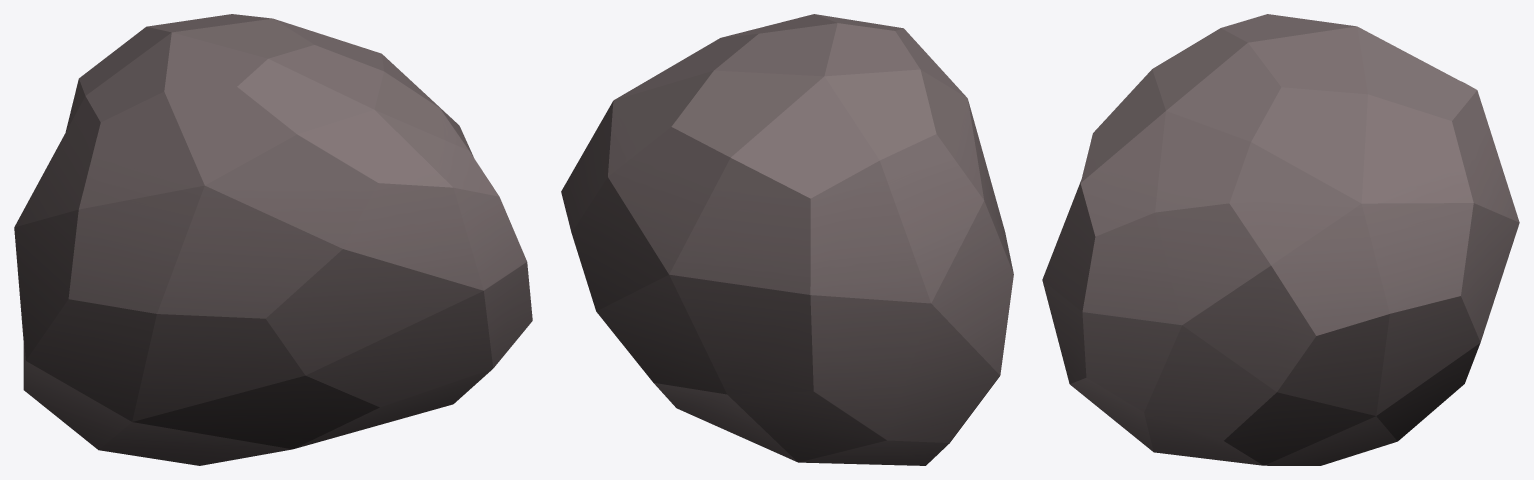
File: Asteroid_2.fbx
3 renders of one model, left to right at view 1: azimuth 30°, elevation 25°; view 2: azimuth 150°, elevation 25°; view 3: azimuth 270°, elevation 25°, orthographic.
Parts seen in each view (by area): view 1: Asteroid_2; view 2: Asteroid_2; view 3: Asteroid_2.
Boxes of the visible parts, <box> form: Asteroid_2: <box>14,14,532,465</box>; Asteroid_2: <box>561,14,1013,465</box>; Asteroid_2: <box>1042,14,1519,465</box>.
Bounding box in the file's own units: 291 × 257 × 276.
Materials: 1 (1 with a texture image).
